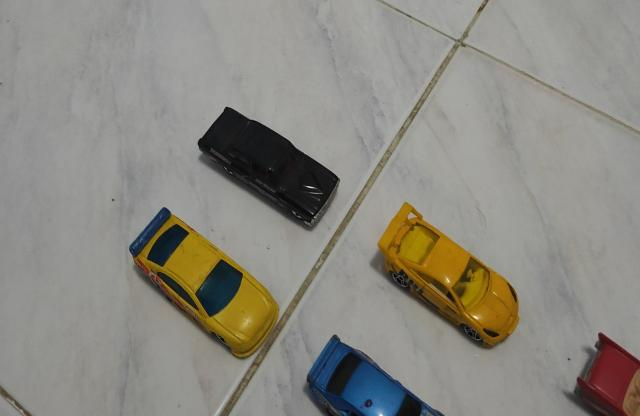01_FORD: (196, 107, 340, 232)
02_OZSOME: (127, 208, 282, 361)
03_V8: (575, 332, 640, 416)
04_MERZEDES: (306, 336, 447, 416)
07_RHLTURBO: (372, 203, 520, 350)
